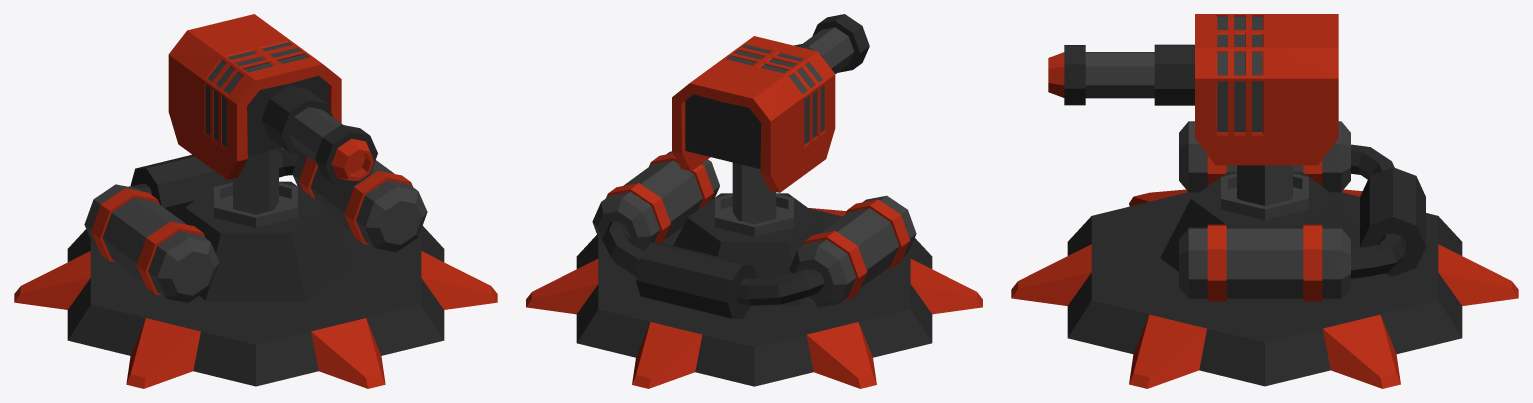
The model's file is qNt5FqDnK6.glb.
The picture shows the model from 3 angles, left to right: view 1: azimuth 30°, elevation 25°; view 2: azimuth 150°, elevation 25°; view 3: azimuth 270°, elevation 25°; orthographic projection. The views are drawn at different scales.
Parts seen in each view (by area): view 1: BaseFlamethrowerTurret1, MiddleFlamethrowerTurret1; view 2: BaseFlamethrowerTurret1, MiddleFlamethrowerTurret1; view 3: BaseFlamethrowerTurret1, MiddleFlamethrowerTurret1.
Boxes of the visible parts, <box> form: BaseFlamethrowerTurret1: <box>14,14,497,388</box>; MiddleFlamethrowerTurret1: <box>84,42,427,302</box>; BaseFlamethrowerTurret1: <box>526,14,982,388</box>; MiddleFlamethrowerTurret1: <box>592,27,916,307</box>; BaseFlamethrowerTurret1: <box>1011,14,1518,388</box>; MiddleFlamethrowerTurret1: <box>1085,16,1350,298</box>.
Size of the model in its own units: 4.42 by 2.81 by 4.92.
